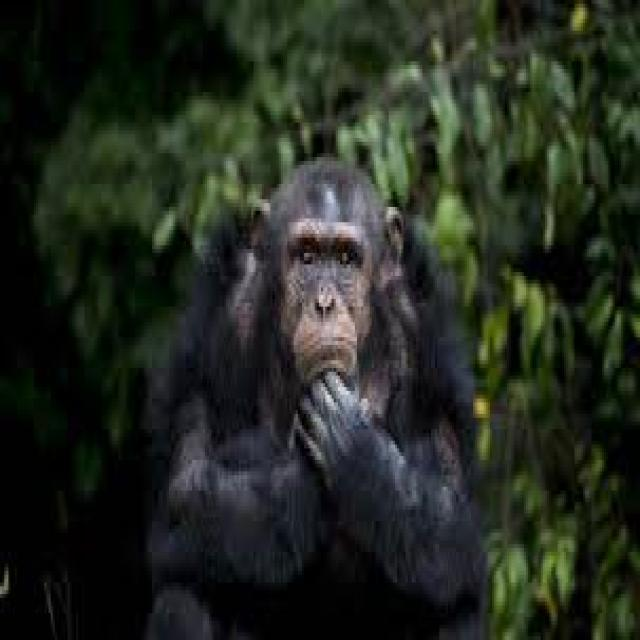chimpanzee: (144, 157, 484, 636)
